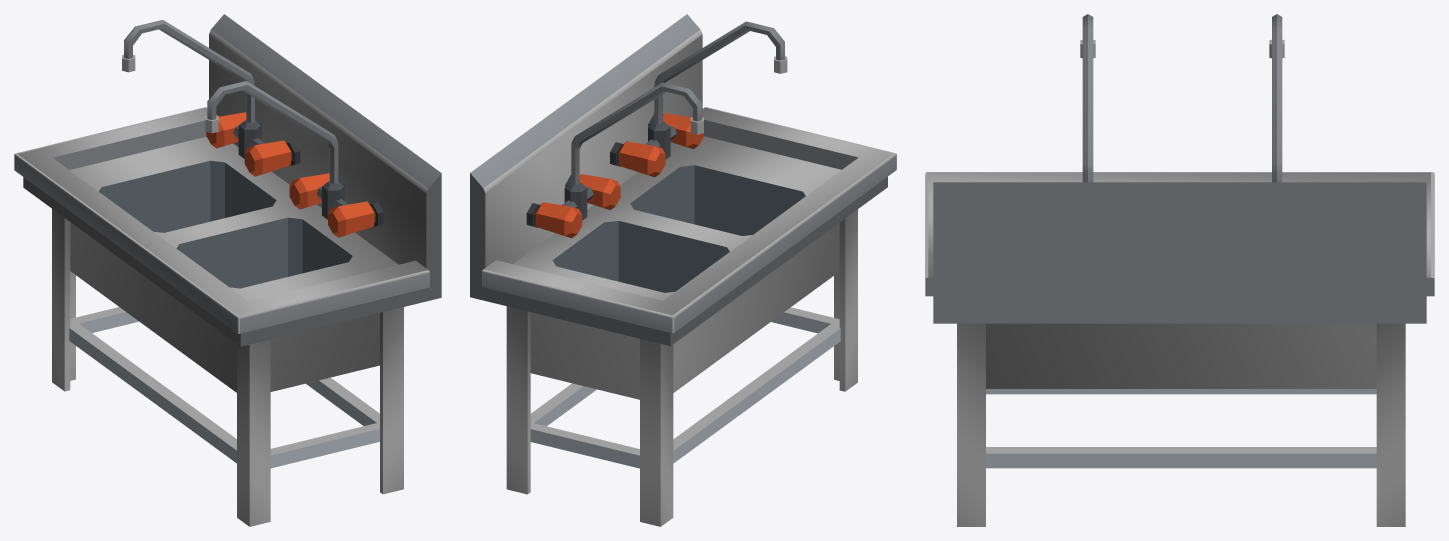
The model's file is Washing.fbx.
3 renders of one model, left to right at view 1: azimuth 30°, elevation 25°; view 2: azimuth 150°, elevation 25°; view 3: azimuth 270°, elevation 25°, orthographic. The views are drawn at different scales.
Parts seen in each view (by area): view 1: Washing; view 2: Washing; view 3: Washing.
Boxes of the visible parts, x1,y1,x2,y2 form: Washing: (14, 14, 441, 526); Washing: (470, 14, 896, 526); Washing: (925, 14, 1434, 526).
Bounding box in the file's own units: 1.38 × 2.49 × 2.6.
